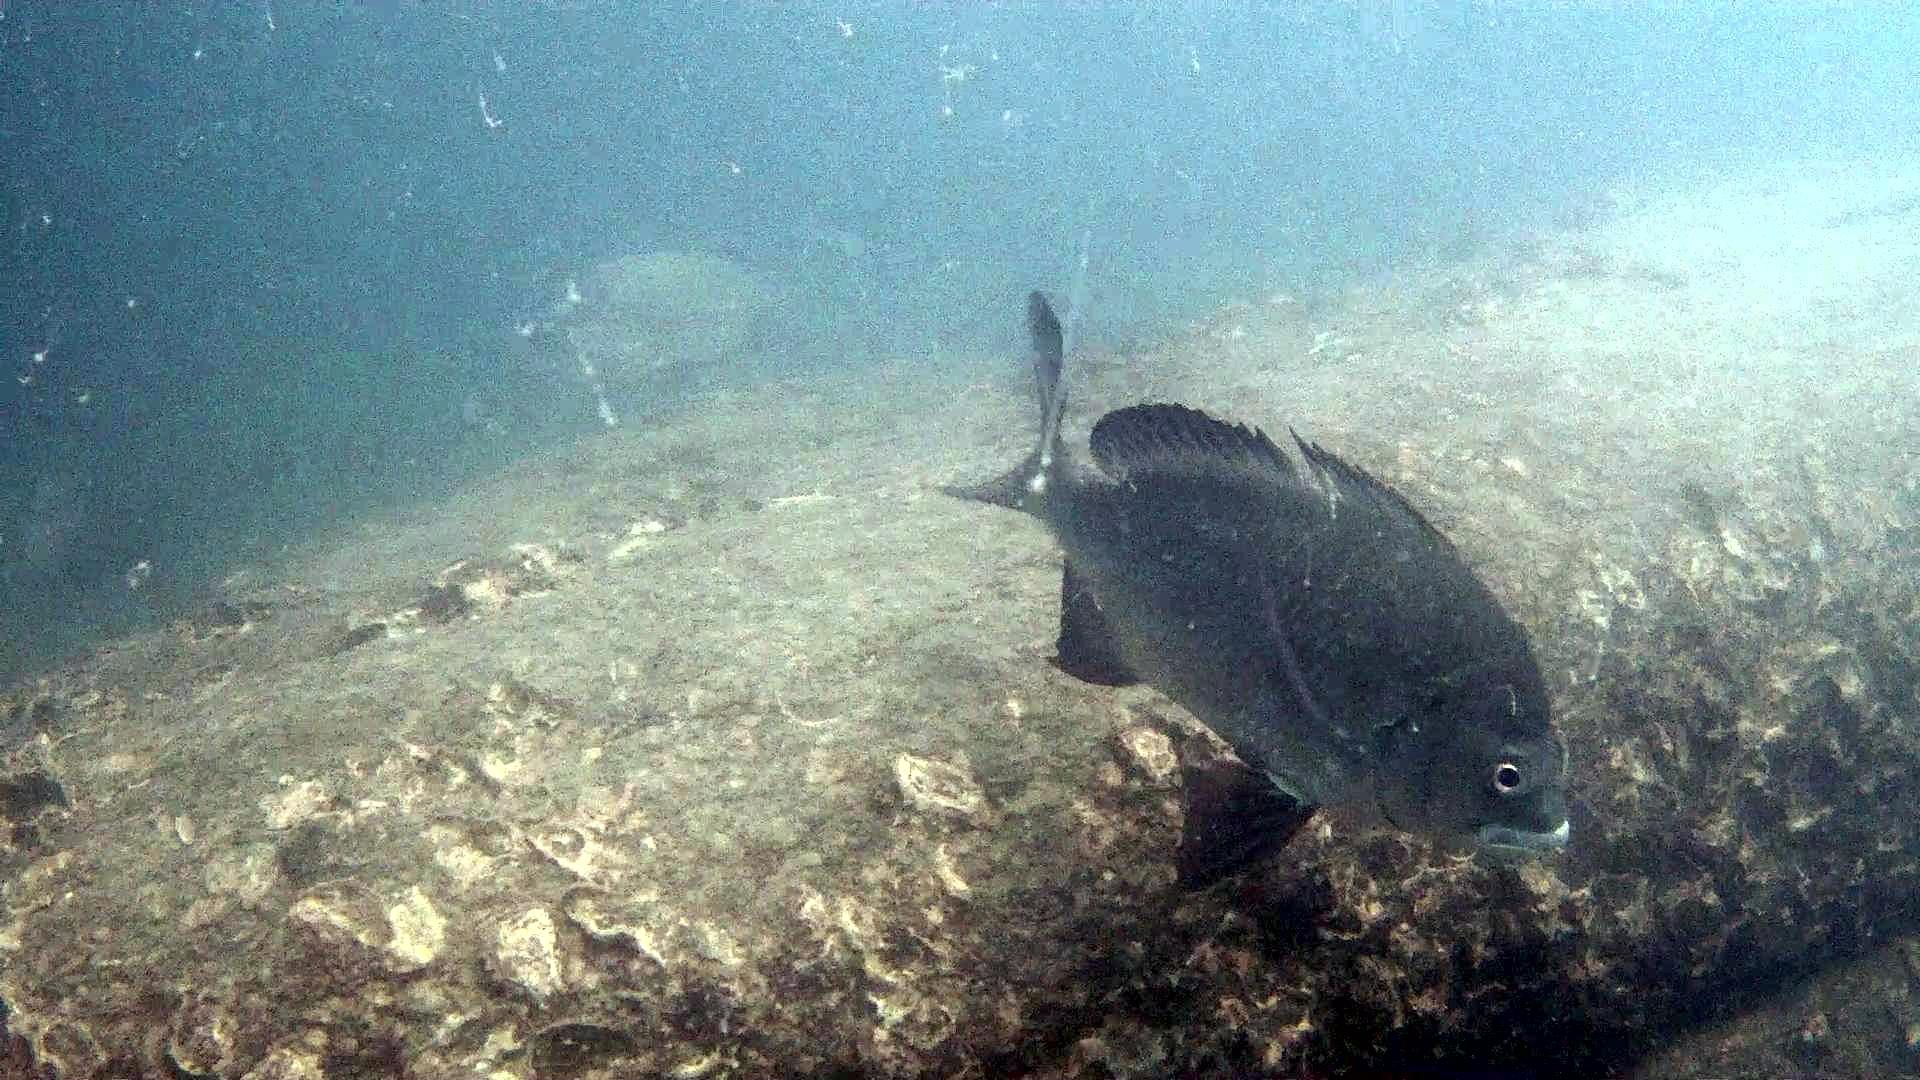acanthopagrus palmaris: (926, 273, 1585, 901)
